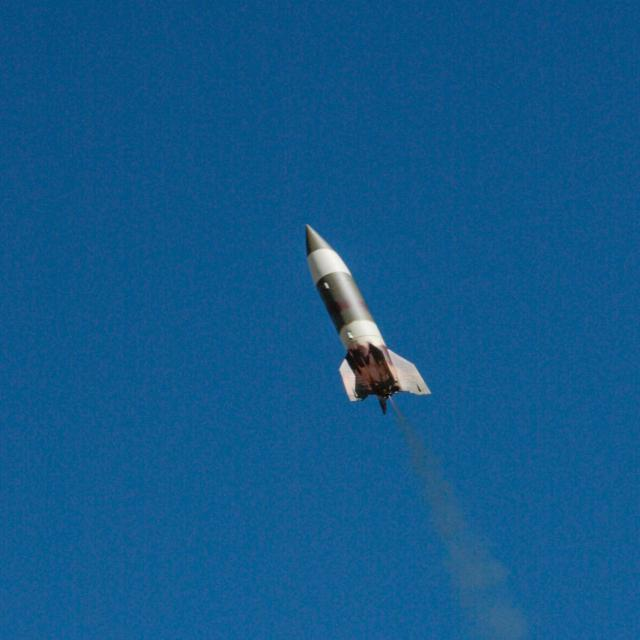Rocket: (302, 222, 434, 416)
